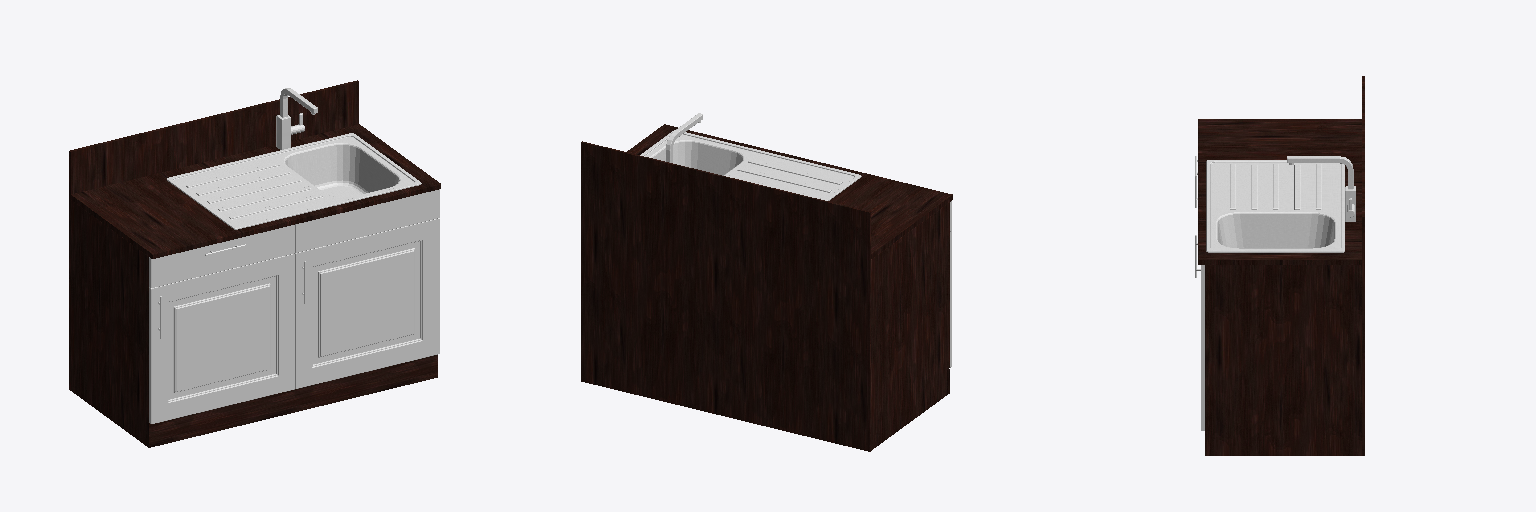
The picture shows the model from 3 angles: view 1: azimuth 30°, elevation 25°; view 2: azimuth 150°, elevation 25°; view 3: azimuth 270°, elevation 25°; orthographic projection.
Size of the model in its own units: 1.2 by 1.03 by 0.6105.
4 materials, 2 textured.